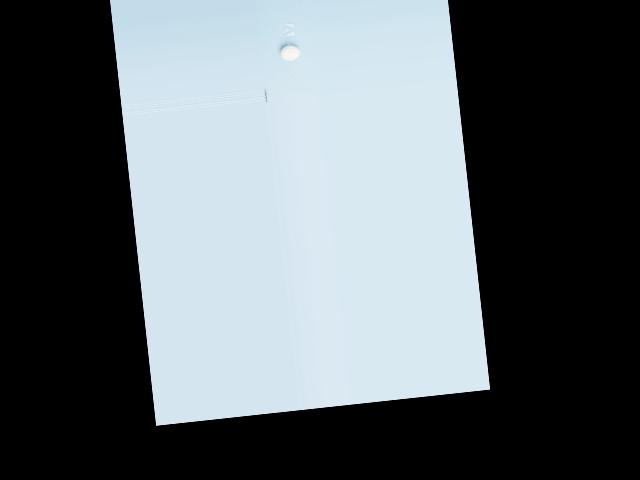egg: (279, 44, 300, 61)
